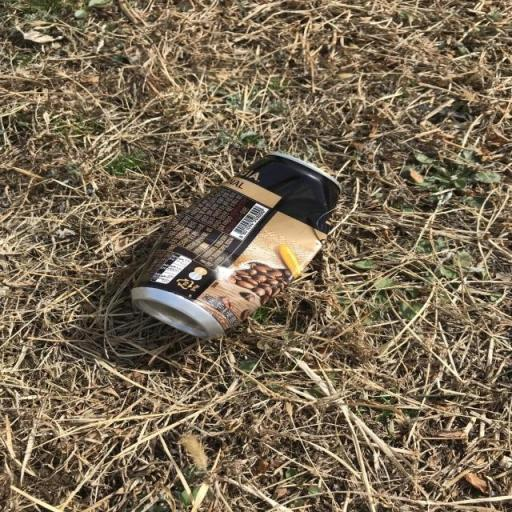metal: (62, 128, 389, 368)
